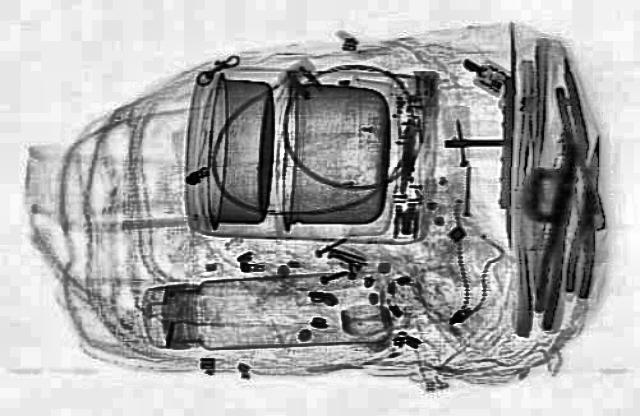Pliers: (524, 160, 582, 330), (558, 131, 612, 297)
